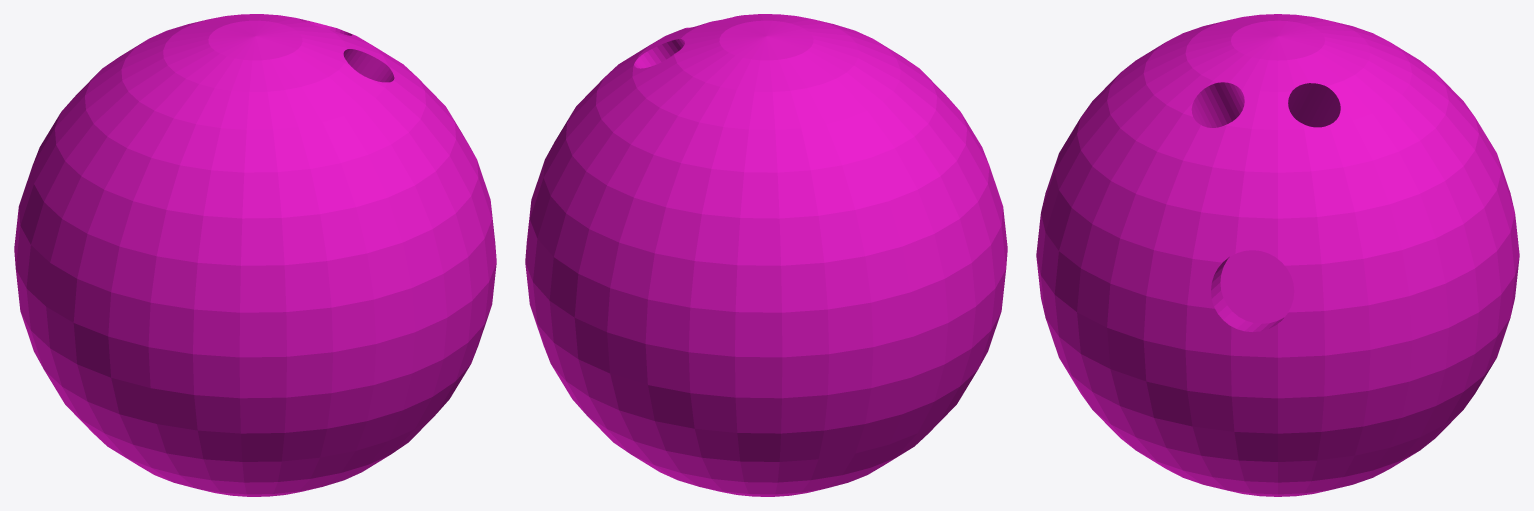
File: bowling ball 16.11.2023_korjattu.fbx
3 views of the same model, side by side, from view 1: azimuth 30°, elevation 25°; view 2: azimuth 150°, elevation 25°; view 3: azimuth 270°, elevation 25° (orthographic).
Visible parts, largest first — view 1: Sphere; view 2: Sphere; view 3: Sphere.
Boxes of the visible parts, left/top/right/bottom form: Sphere: left=14, top=14, right=496, bottom=496; Sphere: left=525, top=14, right=1007, bottom=496; Sphere: left=1036, top=14, right=1519, bottom=496.
Size of the model in its own units: 42 by 42 by 42.
